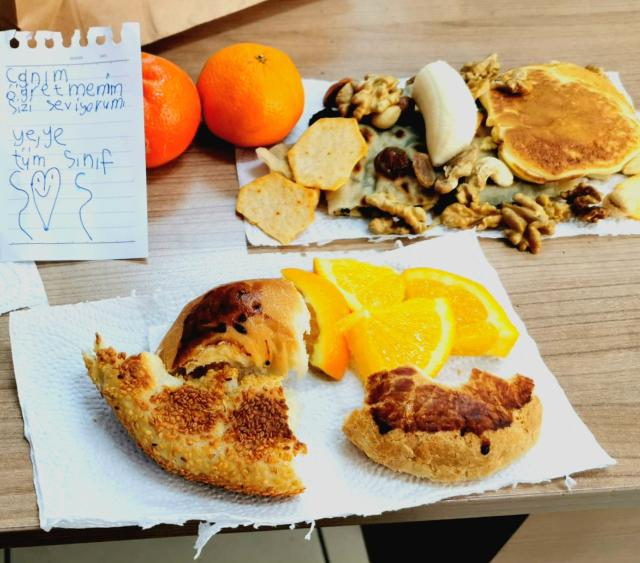Kagit: (0, 26, 147, 258), (196, 44, 301, 148)
Organik: (86, 331, 307, 497), (282, 253, 518, 377), (340, 366, 540, 481), (482, 58, 637, 179), (237, 118, 365, 239), (158, 273, 309, 371), (404, 63, 483, 167), (501, 191, 555, 258), (326, 73, 402, 112), (374, 193, 427, 239), (446, 190, 505, 231), (565, 185, 605, 228), (372, 146, 410, 182), (378, 100, 401, 134)
